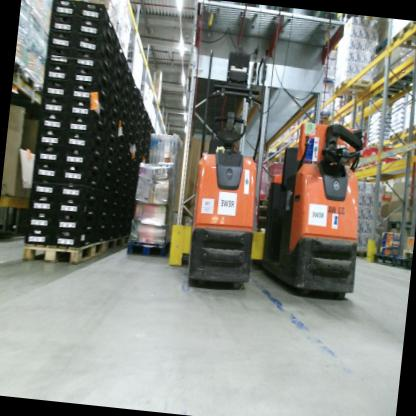pallet: (20, 232, 107, 272), (12, 58, 48, 101), (121, 236, 171, 262), (387, 19, 416, 52), (371, 29, 395, 61), (331, 78, 369, 97), (104, 233, 125, 260), (372, 243, 395, 267), (399, 244, 412, 259)
pallet_truck: (172, 53, 279, 296), (255, 113, 373, 303)
